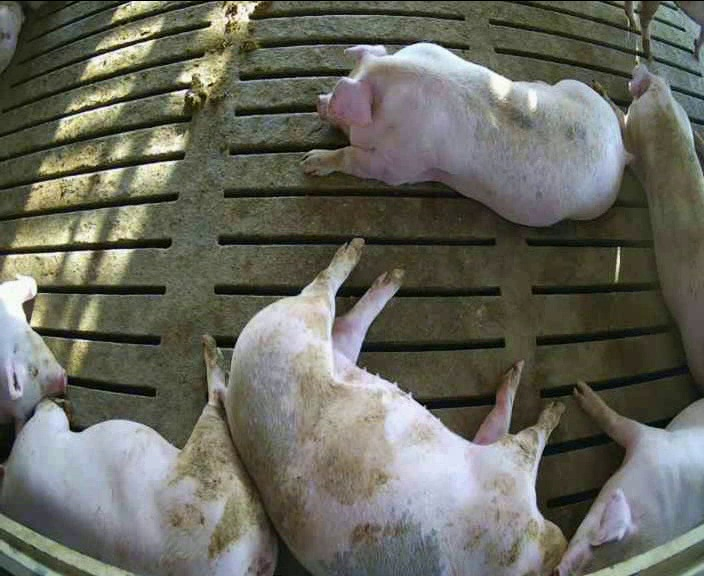pig: (226, 238, 566, 571), (0, 335, 275, 574), (304, 43, 625, 225), (591, 66, 703, 389)
